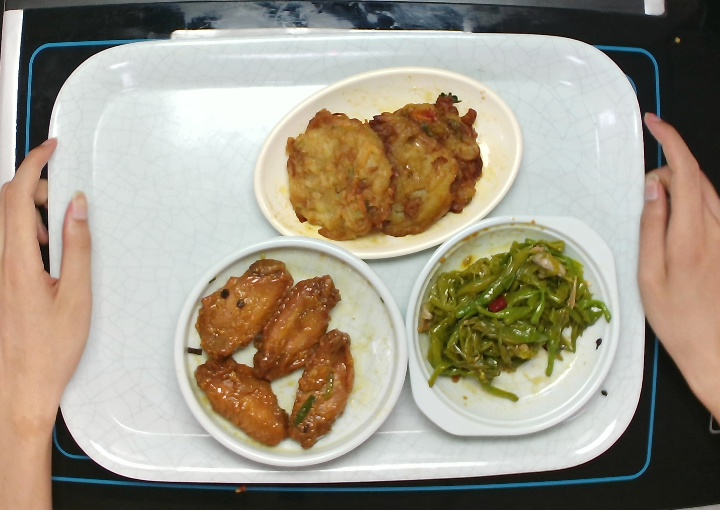JYsf-Shuang_Er_Pan: (402, 209, 626, 441)
JYsf-Tuo_Yuan_Wan: (248, 61, 527, 262)
JYsf-Xiao_Yuan_Pan: (168, 232, 412, 471)
